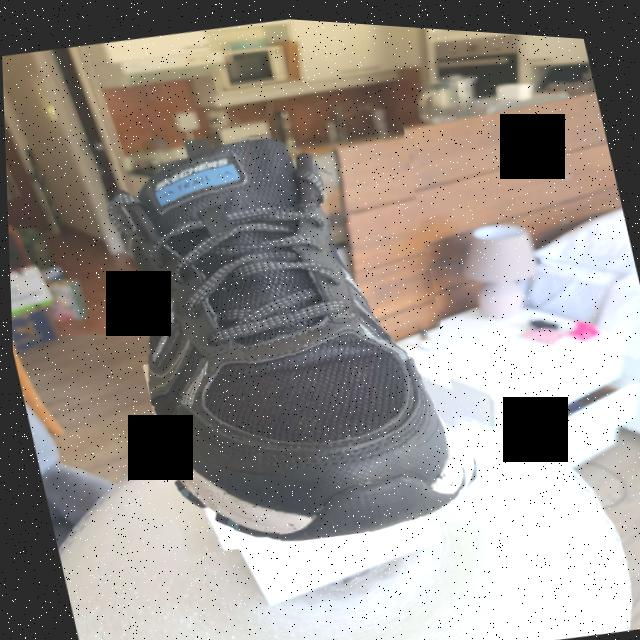shoe: (92, 92, 490, 569)
